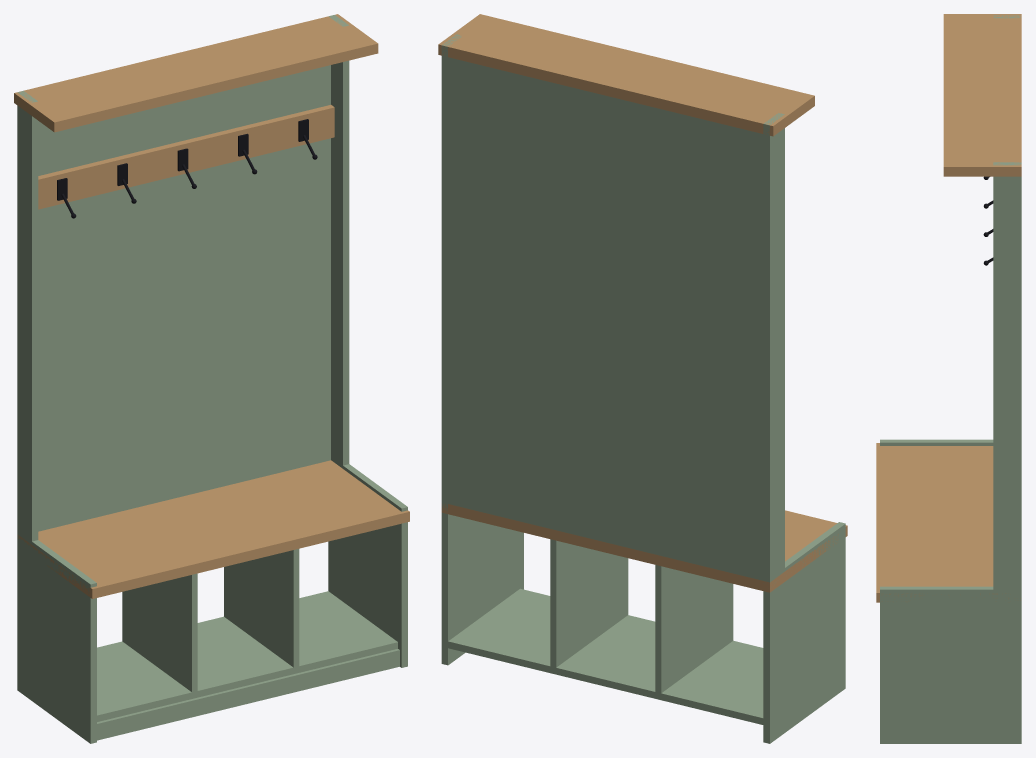
The model's file is 044_hall_tree_bench_with_hooks.glb.
The picture shows the model from 3 angles, left to right: view 1: azimuth 30°, elevation 25°; view 2: azimuth 150°, elevation 25°; view 3: azimuth 270°, elevation 25°; orthographic projection. The views are drawn at different scales.
Visible parts, largest first — view 1: 009_backboard, 008_seat, 010_crown_shelf, 004_bottom_shelf, 000_side_l, 002_tall_side_l, 011_hook_rail, 001_side_r, 003_tall_side_r, 007_cubby_divider, 006_cubby_divider, 005_kick; view 2: 009_backboard, 010_crown_shelf, 004_bottom_shelf, 000_side_l, 002_tall_side_l, 001_side_r, 006_cubby_divider, 007_cubby_divider, 008_seat, 003_tall_side_r; view 3: 001_side_r, 008_seat, 010_crown_shelf, 003_tall_side_r, 000_side_l.
Part boxes in pixels (x1=…): 009_backboard: x1=38, y1=65, x2=330, y2=531; 008_seat: x1=17, y1=460, x2=409, y2=598; 010_crown_shelf: x1=14, y1=14, x2=378, y2=132; 004_bottom_shelf: x1=97, y1=591, x2=397, y2=721; 000_side_l: x1=17, y1=531, x2=96, y2=743; 002_tall_side_l: x1=17, y1=90, x2=38, y2=541; 011_hook_rail: x1=38, y1=105, x2=334, y2=209; 001_side_r: x1=328, y1=457, x2=407, y2=667; 003_tall_side_r: x1=329, y1=15, x2=349, y2=465; 007_cubby_divider: x1=224, y1=549, x2=299, y2=667; 006_cubby_divider: x1=122, y1=573, x2=197, y2=692; 005_kick: x1=97, y1=649, x2=399, y2=740; 009_backboard: x1=448, y1=57, x2=763, y2=580; 010_crown_shelf: x1=438, y1=14, x2=814, y2=136; 004_bottom_shelf: x1=448, y1=588, x2=763, y2=724; 000_side_l: x1=763, y1=522, x2=845, y2=743; 002_tall_side_l: x1=763, y1=113, x2=784, y2=578; 001_side_r: x1=441, y1=499, x2=523, y2=665; 006_cubby_divider: x1=655, y1=565, x2=733, y2=693; 007_cubby_divider: x1=550, y1=539, x2=628, y2=667; 008_seat: x1=441, y1=503, x2=847, y2=592; 003_tall_side_r: x1=441, y1=34, x2=461, y2=500; 001_side_r: x1=880, y1=586, x2=1021, y2=743; 008_seat: x1=876, y1=443, x2=1020, y2=602; 010_crown_shelf: x1=943, y1=14, x2=1021, y2=176; 003_tall_side_r: x1=993, y1=162, x2=1021, y2=589; 000_side_l: x1=880, y1=439, x2=993, y2=445.
Size of the model in its own units: 1.02 by 1.8 by 0.41.
